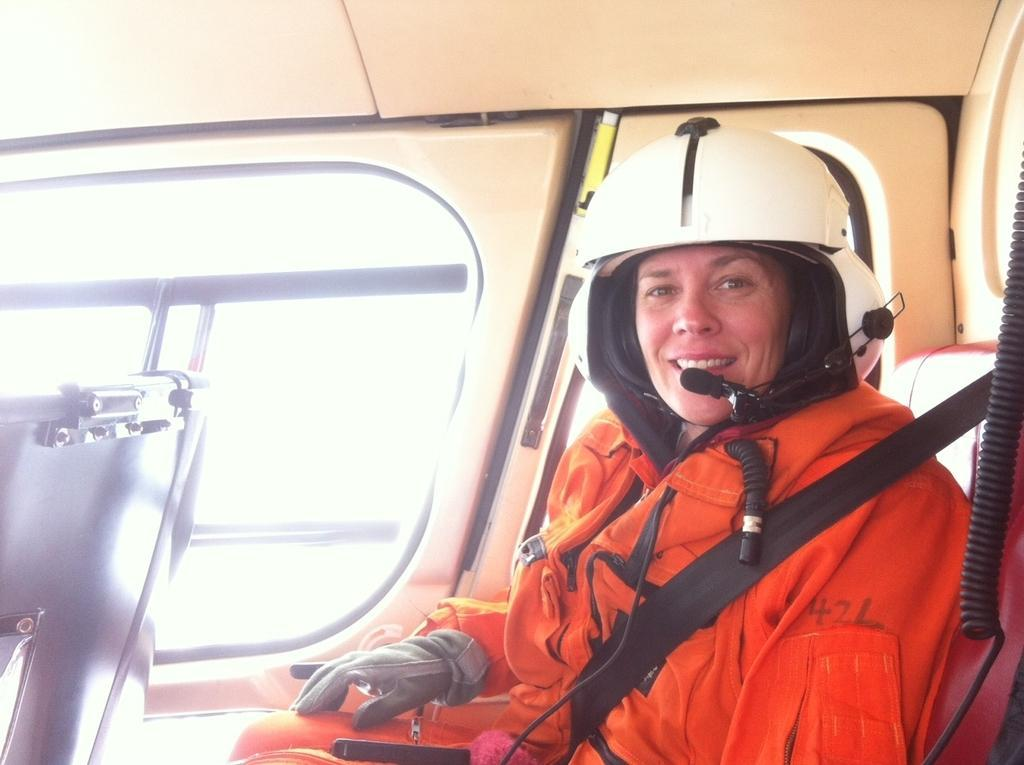helmet: (563, 114, 908, 427)
